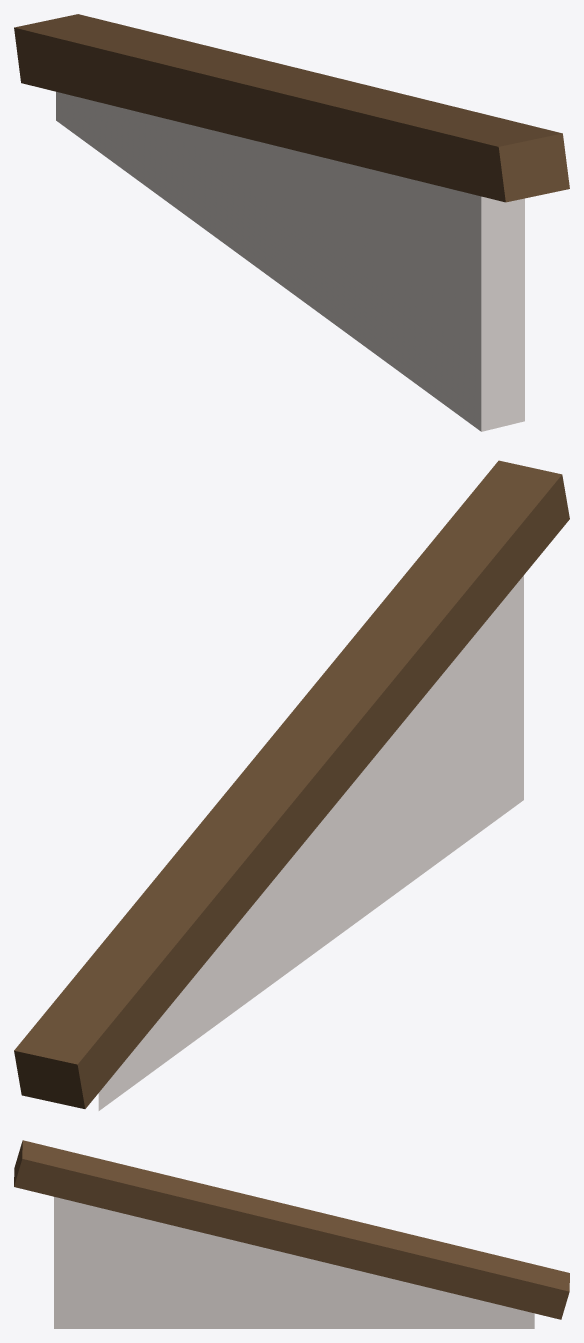
File: Wall14.fbx
3 renders of one model, top to bottom at view 1: azimuth 30°, elevation 25°; view 2: azimuth 150°, elevation 25°; view 3: azimuth 270°, elevation 25°, orthographic. The views are drawn at different scales.
Visible parts, largest first — view 1: Wall_01.004; view 2: Wall_01.004; view 3: Wall_01.004.
Boxes of the visible parts, <box> form: Wall_01.004: <box>14,14,569,431</box>; Wall_01.004: <box>14,460,569,1110</box>; Wall_01.004: <box>14,1140,569,1328</box>.
Bounding box in the file's own units: 17.42 × 79.83 × 231.
